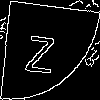Z: (24, 25, 57, 74)
